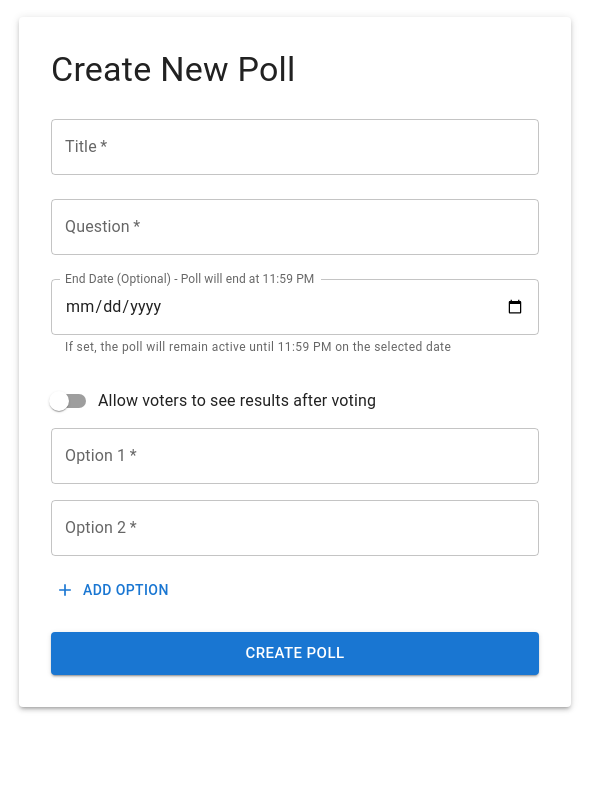
it: CreatePoll Component › allows adding and removing options
# Add a new option
Click the button "Add Option" at (114, 590), box [51,572,177,608]
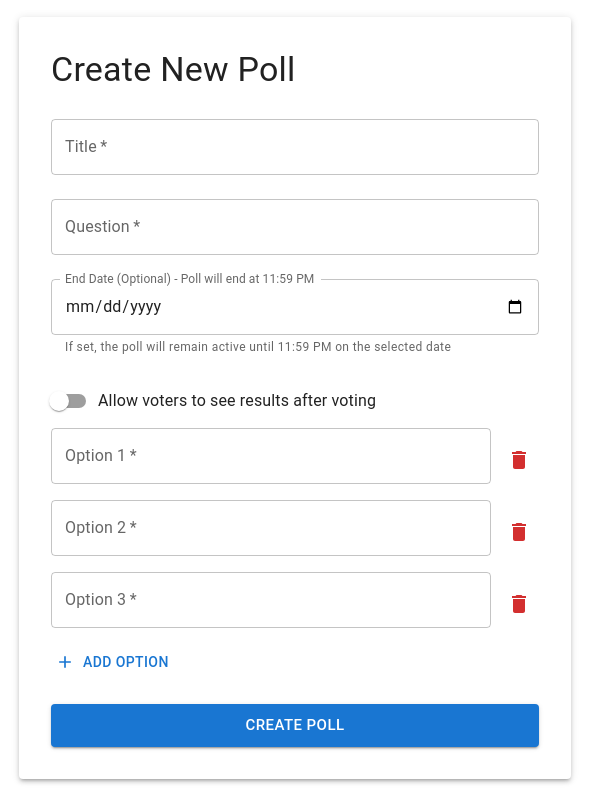
Result: the field labelled "Option 3 *" is shown
# Fill in the new option
Type "Green" into the field labelled "Option 3 *" at (271, 600), box [51,572,491,628]
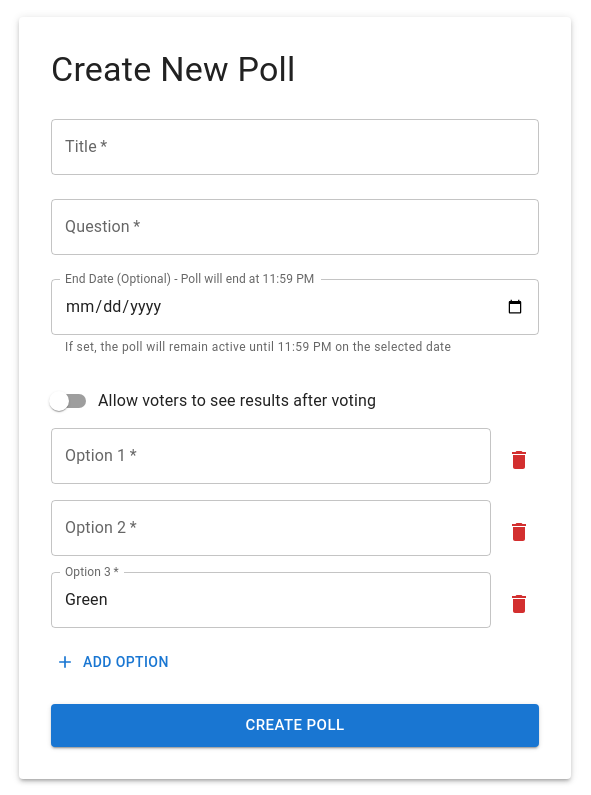
Click the button without text in the row of "Option 1" at (519, 460), box [499,436,539,484]
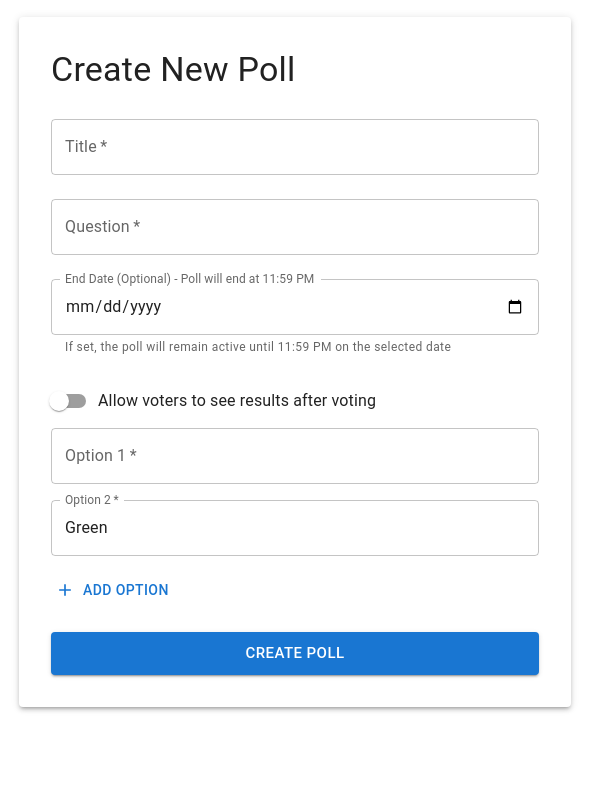
Result: the label labelled "Option 3" is gone
